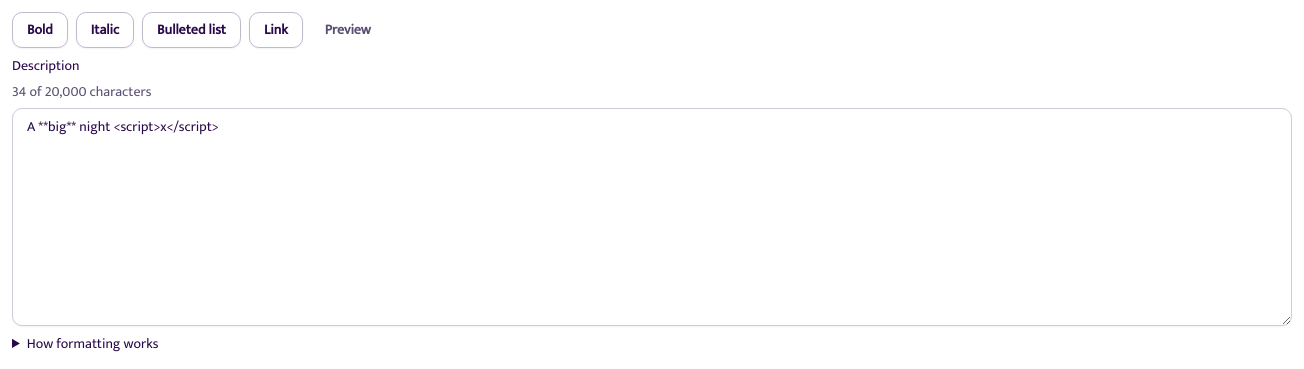
the field › previews the text the way the public page renders it, with no HTML
What coordinates should you click on to do the following:
click the button "Preview"
I would click on:
 (348, 30)
Its box is [311, 12, 385, 48].
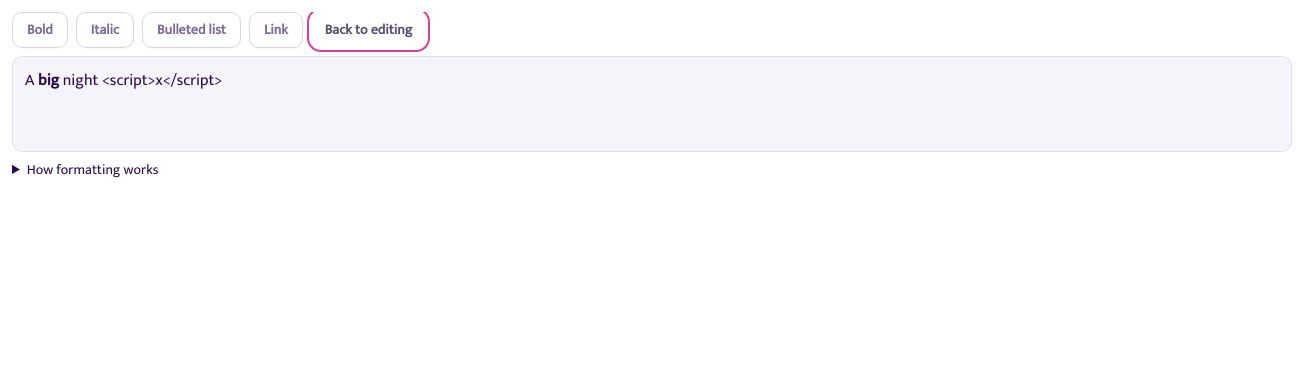
Now the text "big" is shown, box [38, 67, 59, 94]
Now the element named "Preview of the description" shows "<script>x</script>", box [59, 67, 222, 94]
